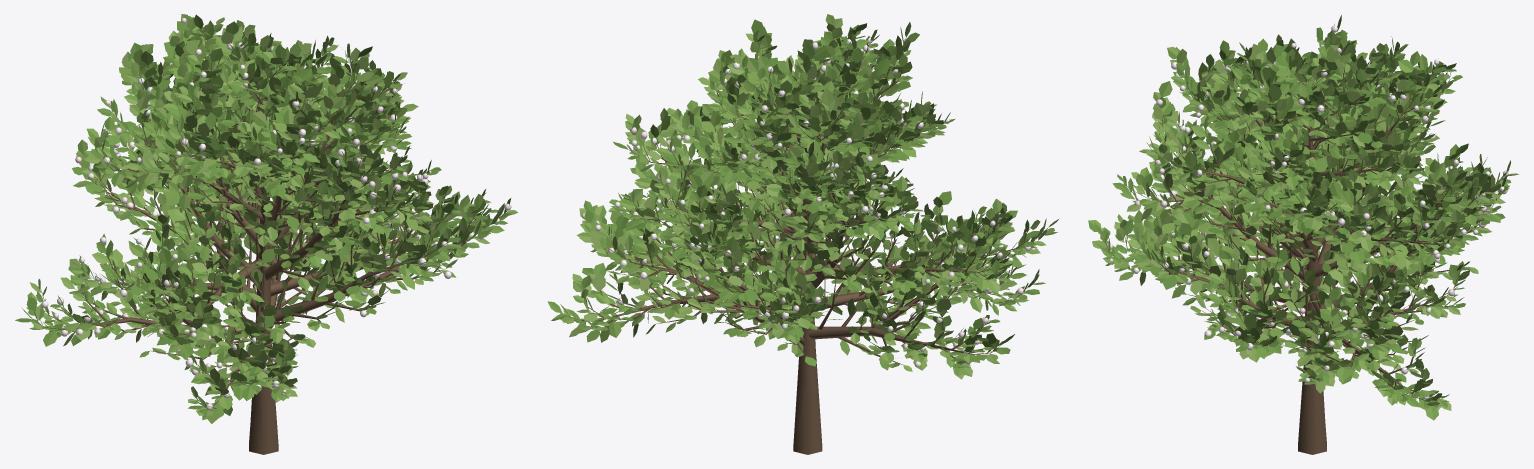
The model's file is pommier_printemps.glb.
3 views of the same model, side by side, from view 1: azimuth 30°, elevation 25°; view 2: azimuth 150°, elevation 25°; view 3: azimuth 270°, elevation 25° (orthographic). The views are drawn at different scales.
Visible parts, largest first — view 1: Pommier_Feuillage, Pommier_Tronc, Pommier_Fleurs; view 2: Pommier_Feuillage, Pommier_Tronc, Pommier_Fleurs; view 3: Pommier_Feuillage, Pommier_Tronc, Pommier_Fleurs.
Part boxes in pixels (bbox=[...]): Pommier_Feuillage: bbox=[15, 14, 517, 423]; Pommier_Tronc: bbox=[31, 25, 505, 454]; Pommier_Fleurs: bbox=[41, 18, 511, 410]; Pommier_Feuillage: bbox=[547, 14, 1058, 379]; Pommier_Tronc: bbox=[563, 35, 1047, 454]; Pommier_Fleurs: bbox=[581, 37, 1035, 366]; Pommier_Feuillage: bbox=[1088, 15, 1518, 420]; Pommier_Tronc: bbox=[1104, 33, 1506, 454]; Pommier_Fleurs: bbox=[1106, 25, 1508, 399].
Bounding box in the file's own units: 4.99 × 4.34 × 4.13.
